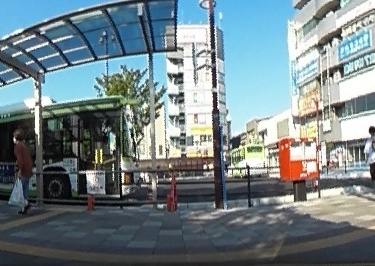person: (8, 128, 38, 216), (365, 125, 375, 190)
